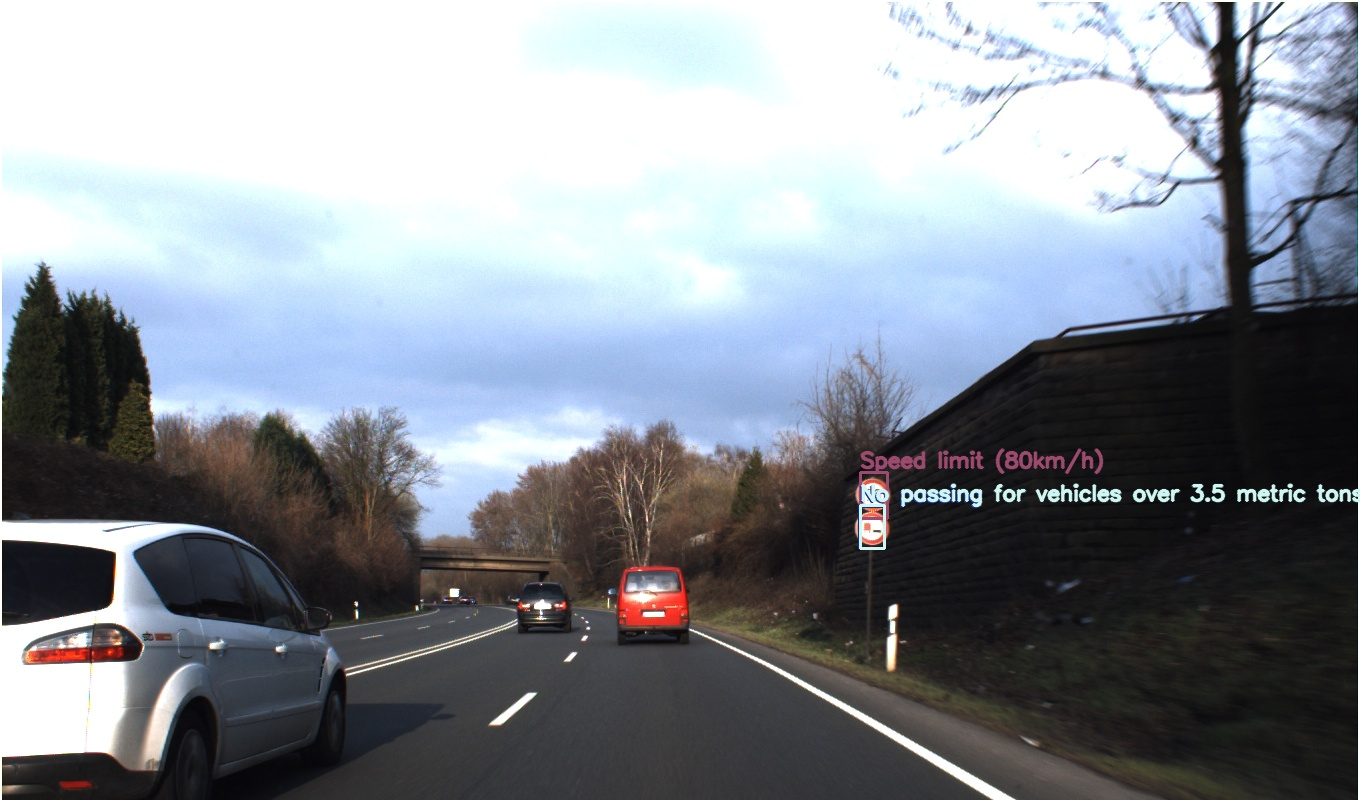Priority road: (980, 269, 1059, 347)
Speed limit (50km/h): (993, 347, 1051, 404)
